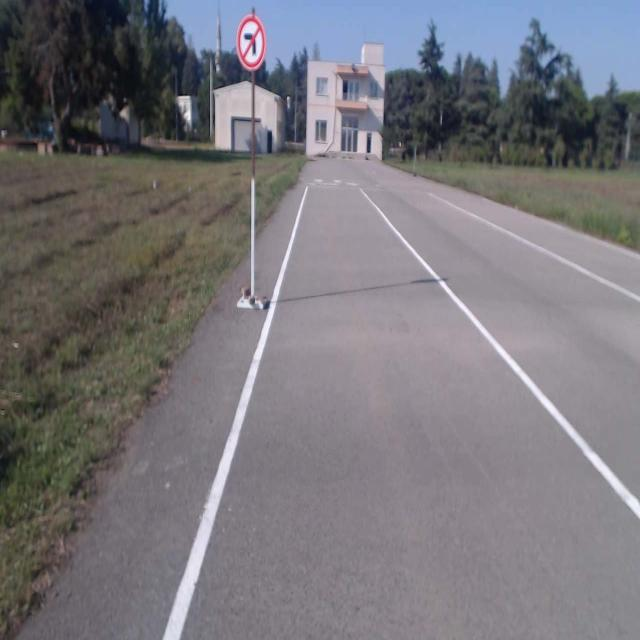soladonulmez: (236, 15, 266, 69)
